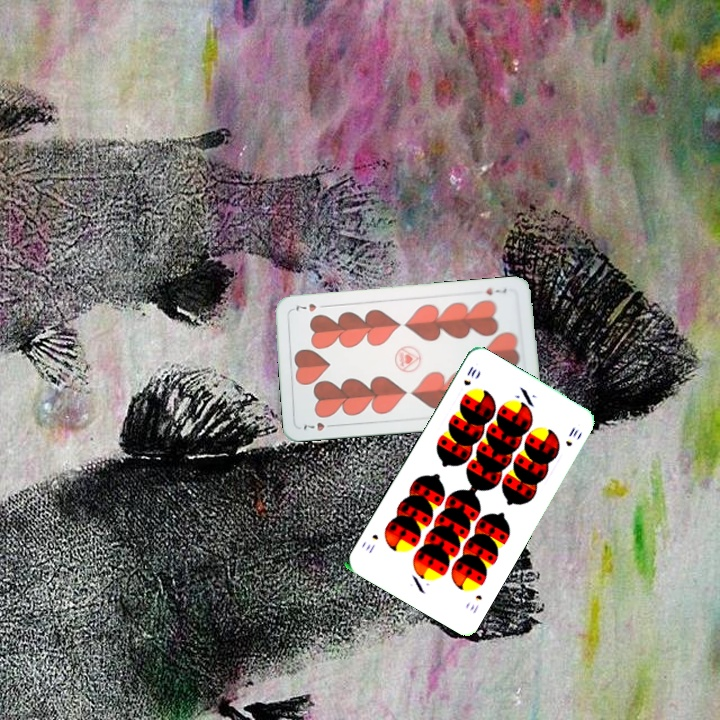H7: (299, 418, 338, 434), (482, 284, 509, 298)
S10: (459, 362, 479, 388), (465, 591, 484, 616)
